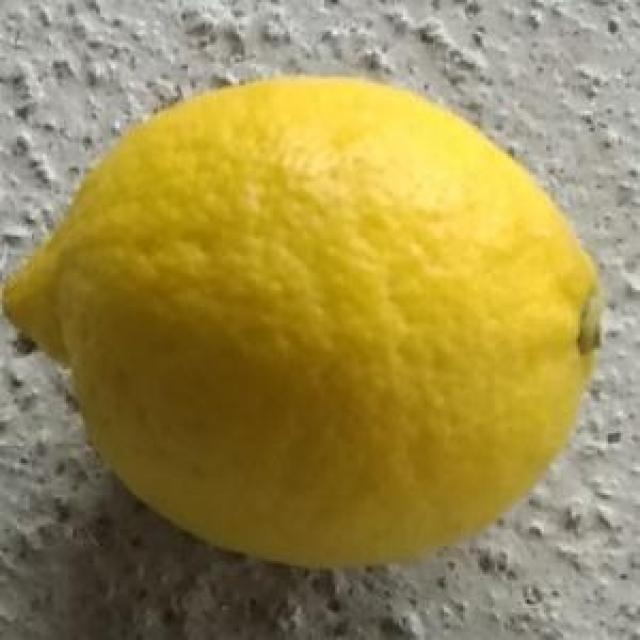lemon: (1, 75, 602, 570)
